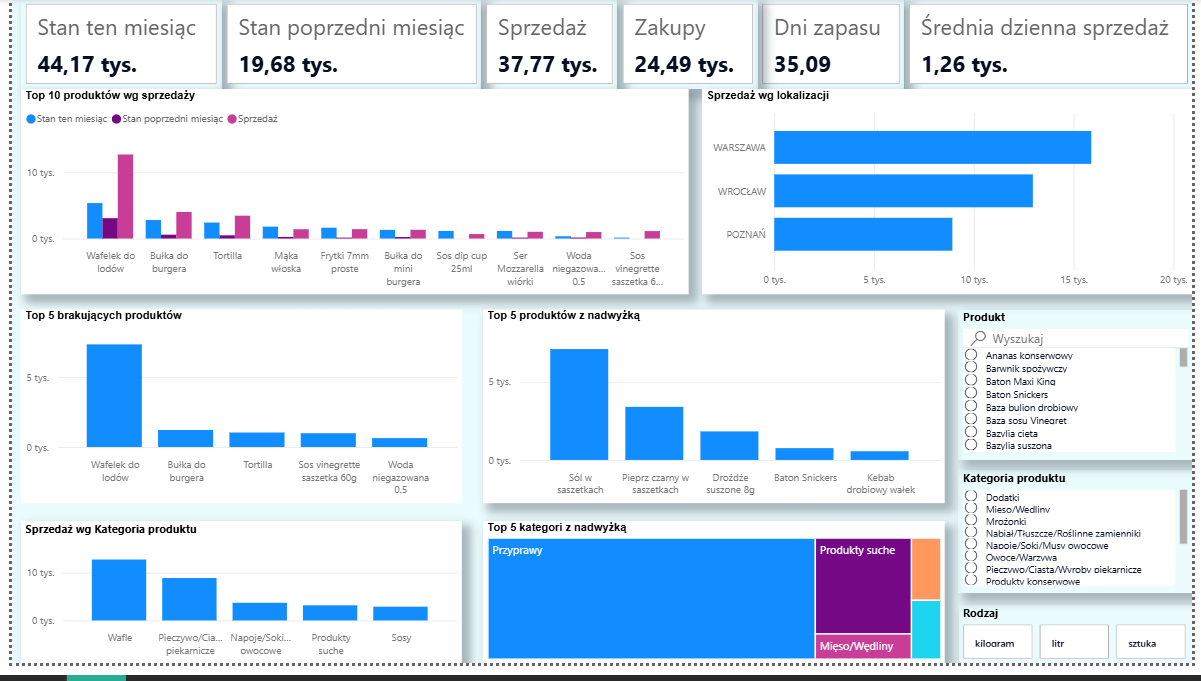

The dashboard page shown, as its layout file describes it:
{"tool":"powerbi","page":{"name":"Strona 1","canvas":[1280,720],"ordinal":0},"visuals":[{"type":"cardVisual","fields":{"Data":["Tabela.Stan ten miesiąc"]},"box":[9.8,0,218,97.6],"z":0},{"type":"cardVisual","fields":{"Data":["Tabela.Stan poprzedni miesiąc"]},"box":[227.7,0,281.4,97.6],"z":1000},{"type":"cardVisual","fields":{"Data":["Tabela.Sprzedaż"]},"box":[509.9,0,147.4,97.6],"z":2000},{"type":"cardVisual","fields":{"Data":["Tabela.Dni zapasu"]},"box":[808.6,0,159.3,97.6],"z":3000},{"type":"cardVisual","fields":{"Data":["Tabela.Średnia dzienna sprzedaż"]},"box":[968,0,312.7,97.6],"z":4000},{"type":"cardVisual","fields":{"Data":["Tabela.Zakupy"]},"box":[657.3,0,151.4,97.6],"z":5000},{"type":"clusteredColumnChart","title":"Top 10 produktów wg sprzedaży","fields":{"Category":["Tabela.Produkt"],"Y":["Tabela.Stan ten miesiąc","Tabela.Stan poprzedni miesiąc","Tabela.Sprzedaż"]},"box":[9.8,97.6,723.8,222.8],"z":6000},{"type":"clusteredBarChart","title":"Sprzedaż wg lokalizacji","fields":{"Category":["Tabela.Lokalizacja"],"Y":["Tabela.Sprzedaż"]},"box":[748.2,97.6,531.9,222.8],"z":7000},{"type":"clusteredColumnChart","title":"Top 5 brakujących produktów","fields":{"Category":["Tabela.Produkt"],"Y":["Tabela.Brak"]},"box":[9.8,336.7,478.2,209.8],"z":8000},{"type":"clusteredColumnChart","title":"Top 5 produktów z nadwyżką","fields":{"Category":["Tabela.Produkt"],"Y":["Tabela.Nadwyżka"]},"box":[510.7,336.7,501,209.8],"z":9000},{"type":"listSlicer","fields":{"Values":["Tabela.Produkt"]},"box":[1026.3,336.7,253.7,162.7],"z":10000},{"type":"advancedSlicerVisual","fields":{"Values":["Tabela.Rodzaj"]},"box":[1026.3,657.1,253.7,63.4],"z":11000},{"type":"listSlicer","fields":{"Values":["Tabela.Kategoria produktu"]},"box":[1026.3,510.7,253.7,133.4],"z":12000},{"type":"clusteredColumnChart","fields":{"Category":["Tabela.Kategoria produktu"],"Y":["Tabela.Sprzedaż"]},"box":[9.8,566,478.2,154.5],"z":13000},{"type":"treemap","title":"Top 5 kategori z nadwyżką","fields":{"Group":["Tabela.Kategoria produktu"],"Values":["Tabela.Nadwyżka"]},"box":[510.7,566,501,154.5],"z":14000}]}

Visuals, with their boxes in screenshot pixels (x1, y1, x2, y2), scaled from the page's 1280x720 canvas onto the 1201x681 screenshot:
cardVisual - Tabela.Stan ten miesiąc: 9/0/214/92
cardVisual - Tabela.Stan poprzedni miesiąc: 214/0/478/92
cardVisual - Tabela.Sprzedaż: 478/0/617/92
cardVisual - Tabela.Dni zapasu: 759/0/908/92
cardVisual - Tabela.Średnia dzienna sprzedaż: 908/0/1200/92
cardVisual - Tabela.Zakupy: 617/0/759/92
"Top 10 produktów wg sprzedaży" clusteredColumnChart: 9/92/688/303
"Sprzedaż wg lokalizacji" clusteredBarChart: 702/92/1200/303
"Top 5 brakujących produktów" clusteredColumnChart: 9/318/458/517
"Top 5 produktów z nadwyżką" clusteredColumnChart: 479/318/949/517
listSlicer - Tabela.Produkt: 963/318/1200/472
advancedSlicerVisual - Tabela.Rodzaj: 963/622/1200/680
listSlicer - Tabela.Kategoria produktu: 963/483/1200/609
clusteredColumnChart - Tabela.Kategoria produktu x Tabela.Sprzedaż: 9/535/458/680
"Top 5 kategori z nadwyżką" treemap: 479/535/949/680
